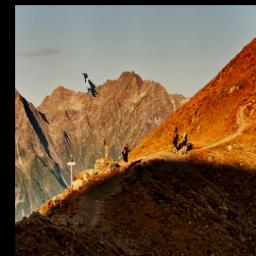Crow: (81, 72, 98, 97)
